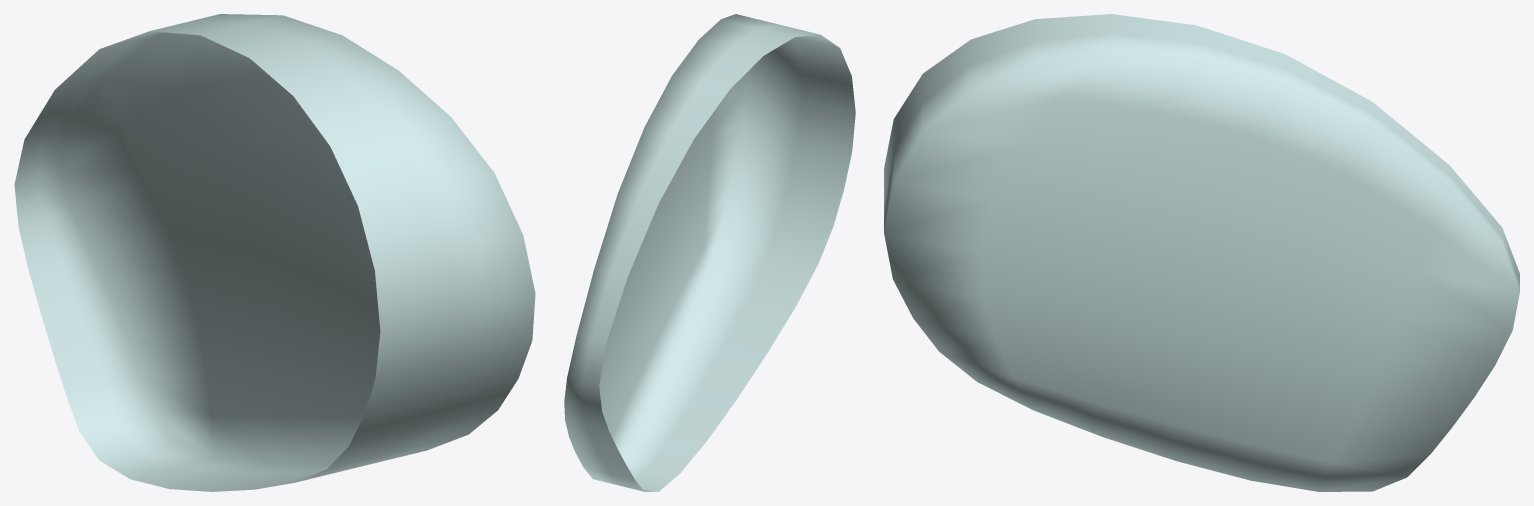
The model's file is Interpubic_disc.l_Cube.047.glb.
The picture shows the model from 3 angles, left to right: view 1: azimuth 30°, elevation 25°; view 2: azimuth 150°, elevation 25°; view 3: azimuth 270°, elevation 25°; orthographic projection. The views are drawn at different scales.
Parts seen in each view (by area): view 1: Interpubic_disc.l_Cube.047; view 2: Interpubic_disc.l_Cube.047; view 3: Interpubic_disc.l_Cube.047.
Boxes of the visible parts, x1,y1,x2,y2 form: Interpubic_disc.l_Cube.047: (14, 14, 535, 491); Interpubic_disc.l_Cube.047: (564, 14, 855, 491); Interpubic_disc.l_Cube.047: (884, 14, 1519, 491).
Size of the model in its own units: 0.00462 by 0.0144 by 0.0187.
